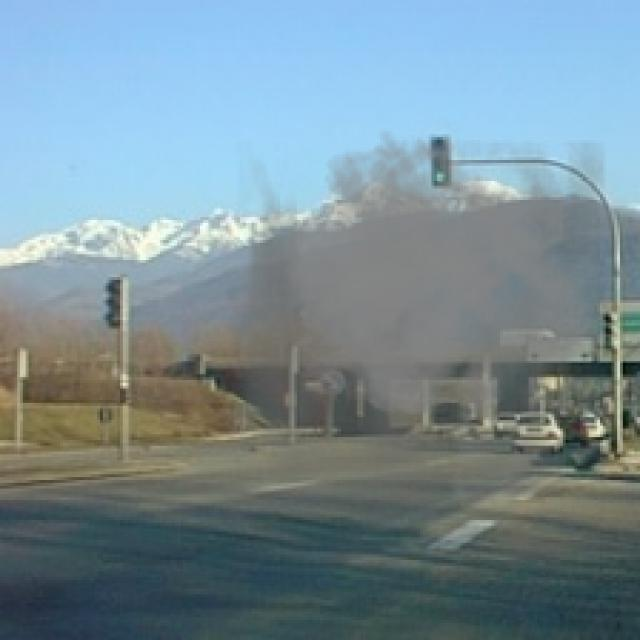Smoke: (223, 128, 606, 518)
